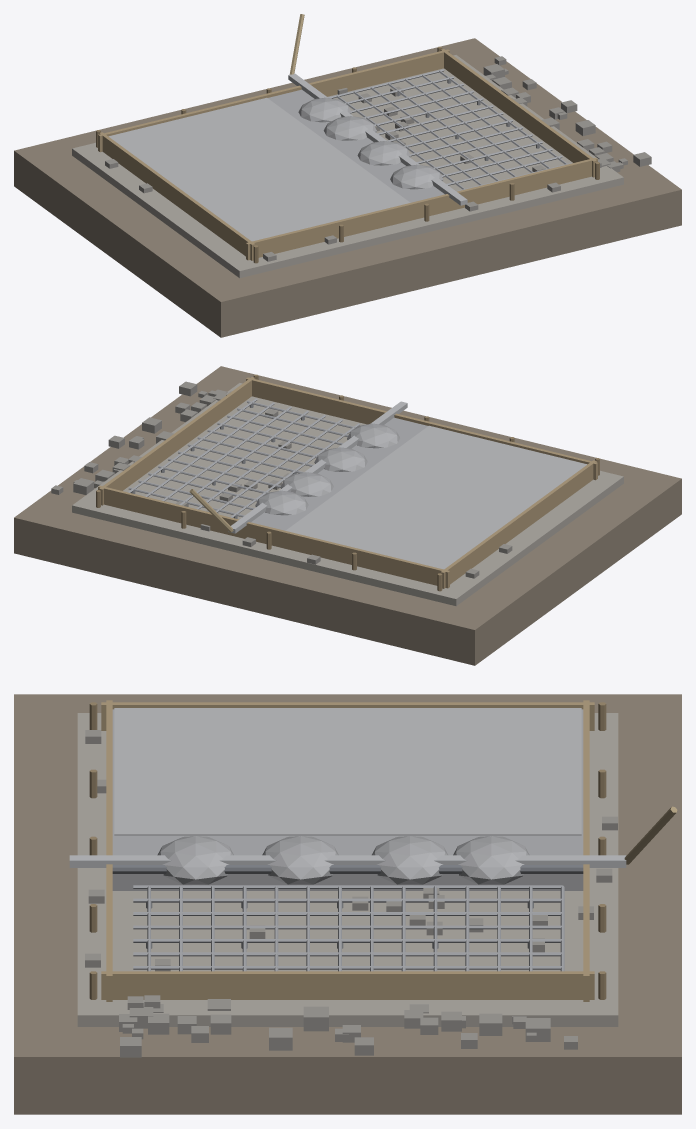
File: colado.glb
The picture shows the model from 3 angles, top to bottom: view 1: azimuth 30°, elevation 25°; view 2: azimuth 150°, elevation 25°; view 3: azimuth 270°, elevation 25°; orthographic projection. The views are drawn at different scales.
Parts seen in each view (by area): view 1: world; view 2: world; view 3: world.
Part boxes in pixels (x1,y1,x2,y2): world: (14, 14, 681, 337); world: (14, 366, 681, 665); world: (14, 694, 681, 1114).
Size of the model in its own units: 5.43 by 1.18 by 4.2.
